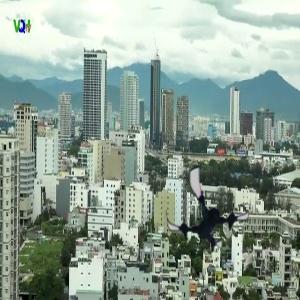drone: (163, 165, 255, 257)
